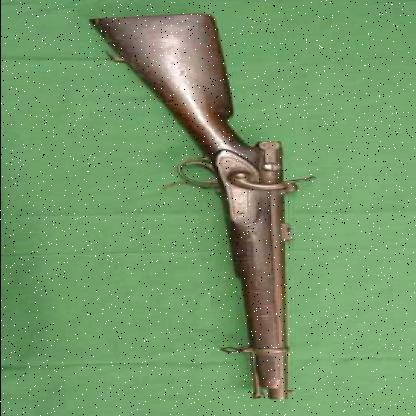rifle: (71, 7, 320, 408)
